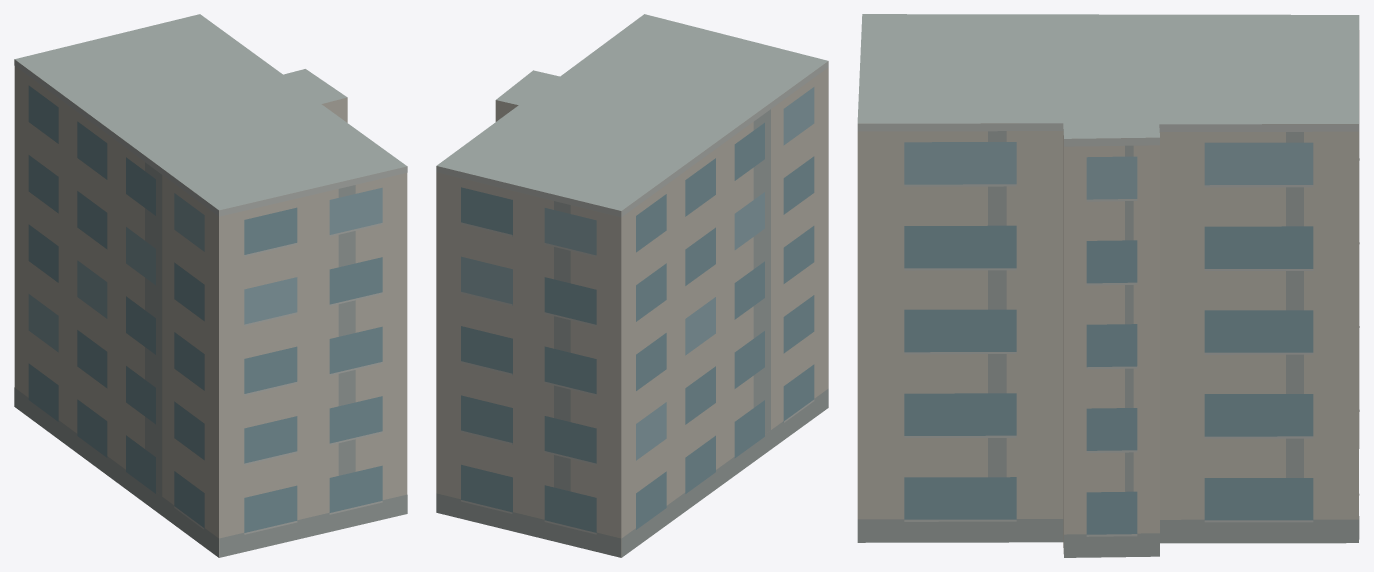
Rendered from survey-upis-32942590.glb.
3 views of the same model, side by side, from view 1: azimuth 30°, elevation 25°; view 2: azimuth 150°, elevation 25°; view 3: azimuth 270°, elevation 25° (orthographic). The views are drawn at different scales.
Visible parts, largest first — view 1: survey-upis-32942590.tmp; view 2: survey-upis-32942590.tmp; view 3: survey-upis-32942590.tmp.
Part boxes in pixels (left/top/right/bottom): survey-upis-32942590.tmp: left=14, top=14, right=407, bottom=557; survey-upis-32942590.tmp: left=436, top=14, right=828, bottom=557; survey-upis-32942590.tmp: left=857, top=14, right=1359, bottom=557.
Bounding box in the file's own units: 8.45 × 13.2 × 14.34.
